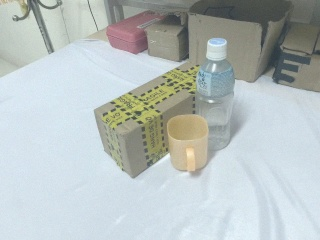bottle: (195, 38, 235, 152)
box: (94, 65, 198, 177), (188, 1, 291, 82), (273, 23, 320, 94)
cup: (166, 114, 209, 173)
